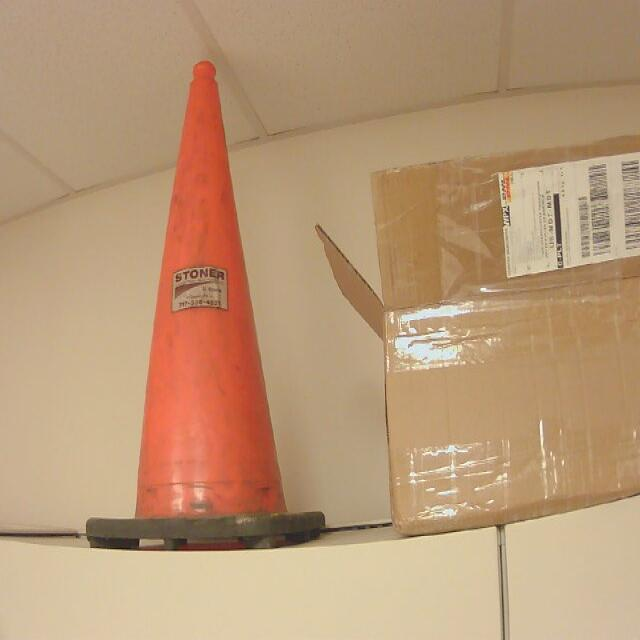traffic cone: (84, 62, 327, 553)
